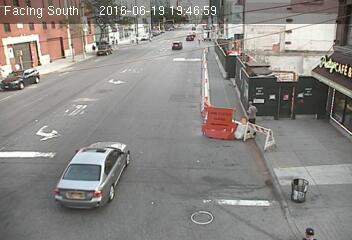neg: (35, 166, 74, 217), (137, 73, 167, 113), (179, 78, 208, 117), (209, 100, 236, 137), (96, 66, 122, 100), (51, 68, 61, 81)
pos: (238, 99, 267, 137), (195, 32, 206, 47), (87, 41, 98, 55)
